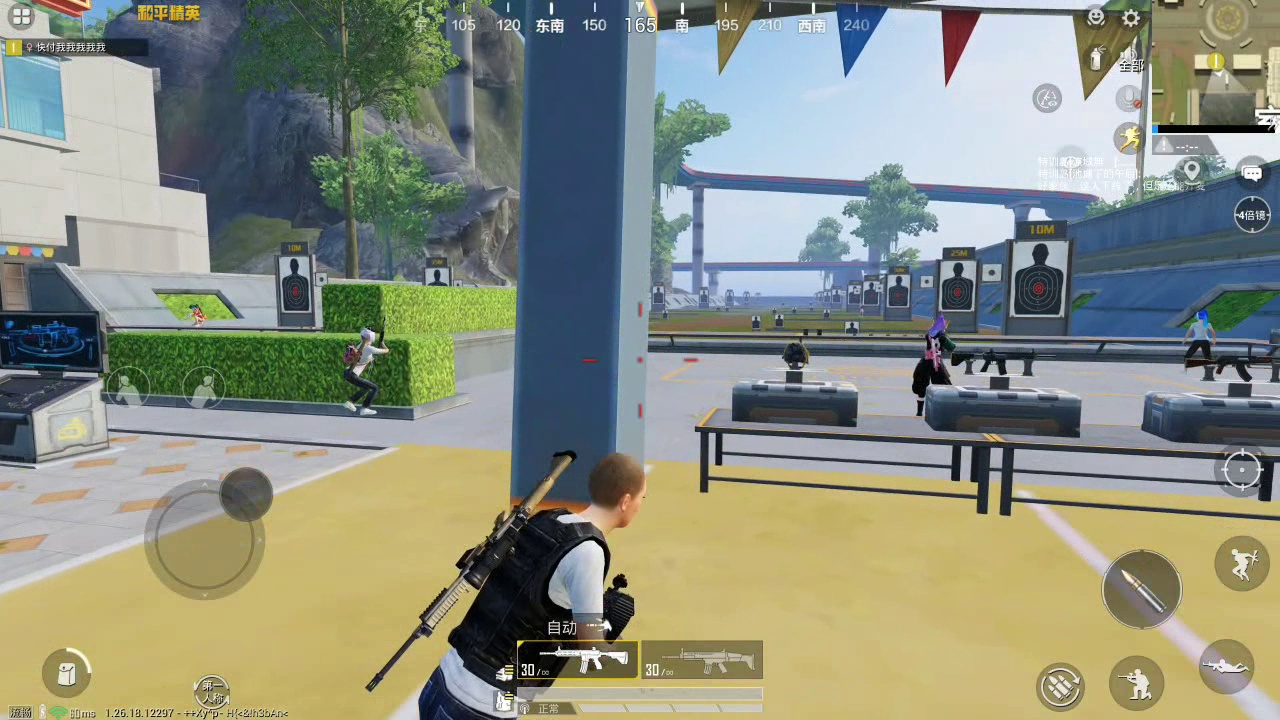enemy: (910, 315, 955, 414), (346, 327, 384, 415), (1180, 307, 1220, 363)
